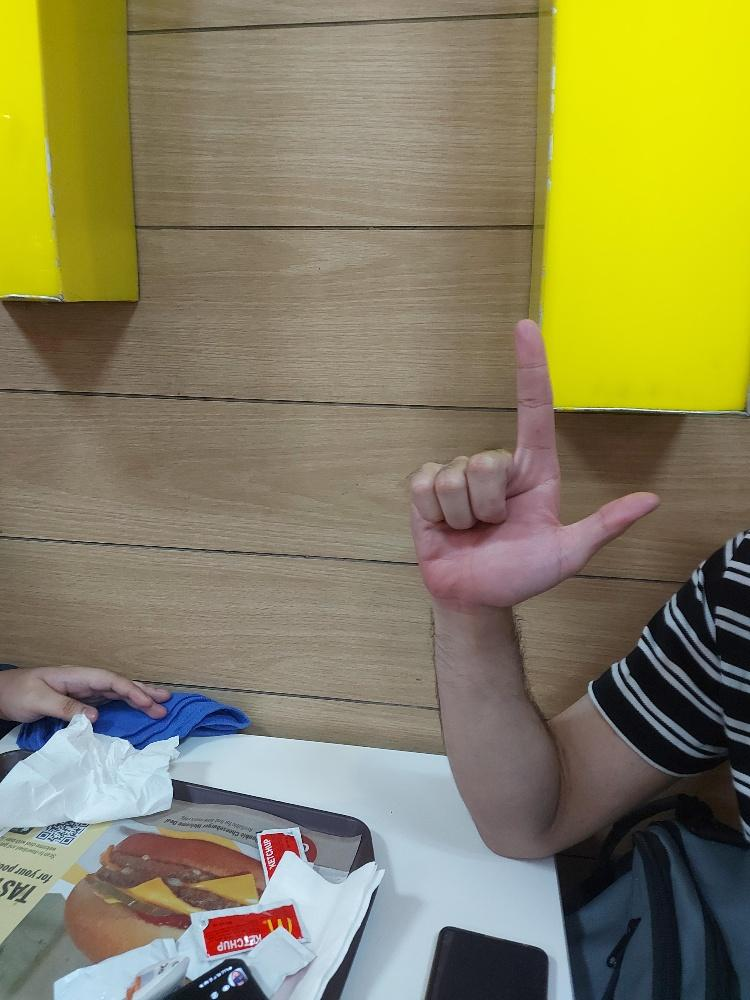l: (403, 314, 660, 613)
